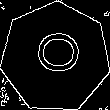O_W: (30, 35, 81, 80)
